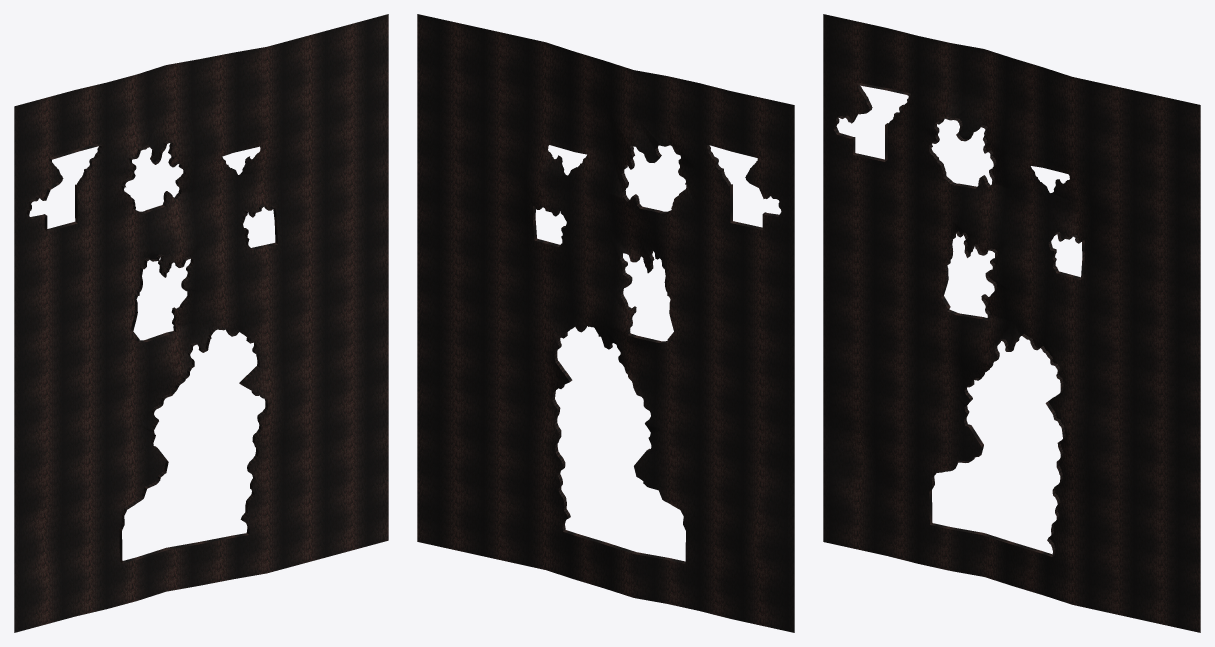
File: Room9 - BG2.fbx
3 renders of one model, left to right at view 1: azimuth 30°, elevation 25°; view 2: azimuth 150°, elevation 25°; view 3: azimuth 330°, elevation 25°, orthographic.
Parts seen in each view (by area): view 1: polySurface331; view 2: polySurface331; view 3: polySurface331.
Part boxes in pixels (box(x1,y1,x2,y2)): polySurface331: box(14, 14, 388, 632); polySurface331: box(417, 14, 794, 632); polySurface331: box(823, 14, 1200, 632).
Size of the model in its own units: 17.6 by 23.59 by 1.08.
